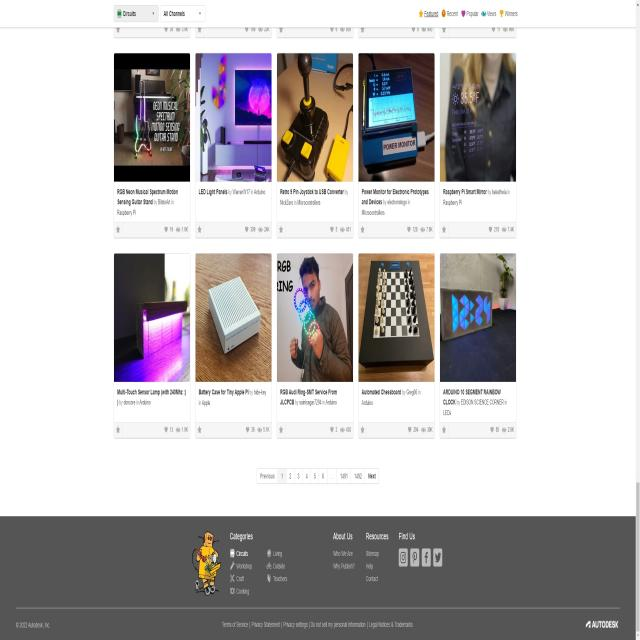menu-bar: (415, 2, 521, 23)
